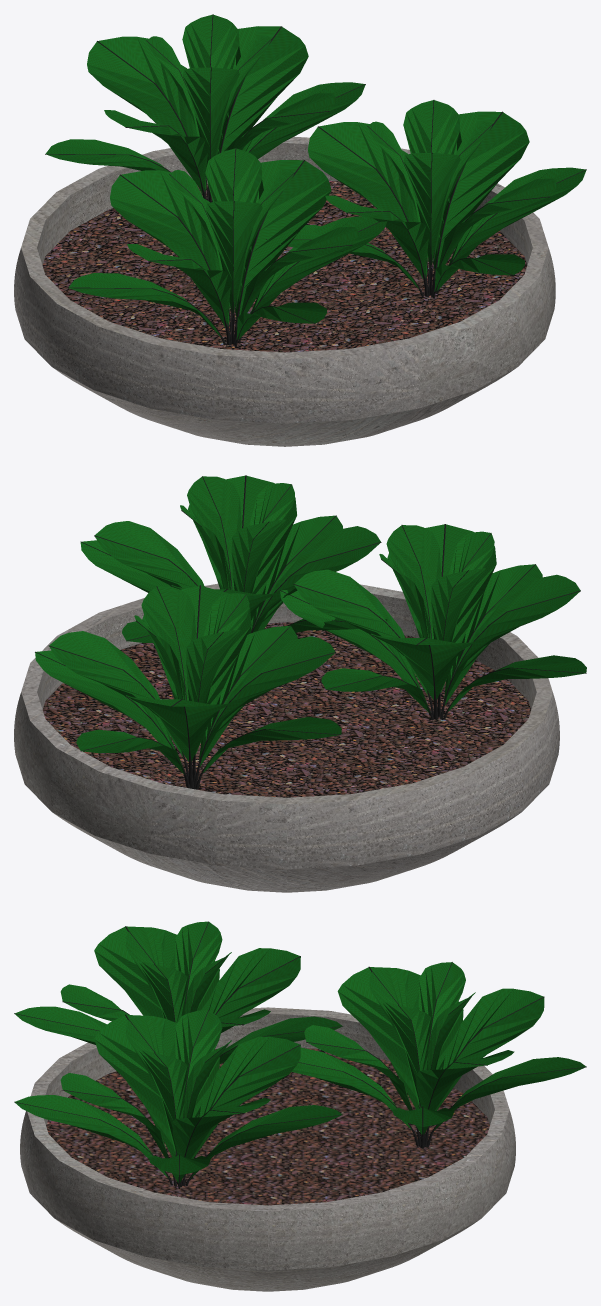
File: Concrete+table+planter.obj
3 views of the same model, one above another, from view 1: azimuth 30°, elevation 25°; view 2: azimuth 150°, elevation 25°; view 3: azimuth 270°, elevation 25° (orthographic). The views are drawn at different scales.
Parts seen in each view (by area): view 1: Mesh25 Group_10_1 Group_11_1 Model, Mesh41 Group29 Group27 Group18 planta_interior_sola2 Group_11_1 , Mesh16 Group12 Group10 Group1 planta_interior_sola1 Group_11_1 M, Mesh65 Group46 Group44 Group35 planta_interior_sola3 Group_11_1 , Mesh71 Group50 Group48 Group35 planta_interior_sola3 Group_11_1 , Mesh47 Group33 Group31 Group18 planta_interior_sola2 Group_11_1 , Mesh22 Group16 Group14 Group1 planta_interior_sola1 Group_11_1 M, Mesh37 Group26 Group23 Group18 planta_interior_sola2 Group_11_1 , Mesh61 Group43 Group40 Group35 planta_interior_sola3 Group_11_1 , Mesh69 Group49 Group48 Group35 planta_interior_sola3 Group_11_1 , Mesh12 Group9 Group6 Group1 planta_interior_sola1 Group_11_1 Mod, Mesh45 Group32 Group31 Group18 planta_interior_sola2 Group_11_1  (+21 smaller); view 2: Mesh25 Group_10_1 Group_11_1 Model, Mesh22 Group16 Group14 Group1 planta_interior_sola1 Group_11_1 M, Mesh47 Group33 Group31 Group18 planta_interior_sola2 Group_11_1 , Mesh71 Group50 Group48 Group35 planta_interior_sola3 Group_11_1 , Mesh29 Group21 Group19 Group18 planta_interior_sola2 Group_11_1 , Mesh4 Group4 Group2 Group1 planta_interior_sola1 Group_11_1 Mode, Mesh53 Group38 Group36 Group35 planta_interior_sola3 Group_11_1 , Mesh24 Group17 Group14 Group1 planta_interior_sola1 Group_11_1 M, Mesh49 Group34 Group31 Group18 planta_interior_sola2 Group_11_1 , Mesh73 Group51 Group48 Group35 planta_interior_sola3 Group_11_1 , Mesh20 Group15 Group14 Group1 planta_interior_sola1 Group_11_1 M, Mesh33 Group24 Group23 Group18 planta_interior_sola2 Group_11_1  (+23 smaller); view 3: Mesh25 Group_10_1 Group_11_1 Model, Mesh16 Group12 Group10 Group1 planta_interior_sola1 Group_11_1 M, Mesh65 Group46 Group44 Group35 planta_interior_sola3 Group_11_1 , Mesh41 Group29 Group27 Group18 planta_interior_sola2 Group_11_1 , Mesh53 Group38 Group36 Group35 planta_interior_sola3 Group_11_1 , Mesh4 Group4 Group2 Group1 planta_interior_sola1 Group_11_1 Mode, Mesh29 Group21 Group19 Group18 planta_interior_sola2 Group_11_1 , Mesh57 Group41 Group40 Group35 planta_interior_sola3 Group_11_1 , Mesh63 Group45 Group44 Group35 planta_interior_sola3 Group_11_1 , Mesh14 Group11 Group10 Group1 planta_interior_sola1 Group_11_1 M, Mesh8 Group7 Group6 Group1 planta_interior_sola1 Group_11_1 Mode, Mesh55 Group39 Group36 Group35 planta_interior_sola3 Group_11_1  (+20 smaller).
Boxes of the visible parts, x1,y1,x2,y2 form: Mesh25 Group_10_1 Group_11_1 Model: [14, 136, 555, 446]; Mesh41 Group29 Group27 Group18 planta_interior_sola2 Group_11_1 : [110, 170, 220, 270]; Mesh16 Group12 Group10 Group1 planta_interior_sola1 Group_11_1 M: [87, 36, 197, 136]; Mesh65 Group46 Group44 Group35 planta_interior_sola3 Group_11_1 : [308, 122, 418, 222]; Mesh71 Group50 Group48 Group35 planta_interior_sola3 Group_11_1 : [433, 111, 529, 269]; Mesh47 Group33 Group31 Group18 planta_interior_sola2 Group_11_1 : [235, 160, 331, 318]; Mesh22 Group16 Group14 Group1 planta_interior_sola1 Group_11_1 M: [217, 26, 308, 154]; Mesh37 Group26 Group23 Group18 planta_interior_sola2 Group_11_1 : [205, 201, 262, 313]; Mesh61 Group43 Group40 Group35 planta_interior_sola3 Group_11_1 : [403, 153, 460, 264]; Mesh69 Group49 Group48 Group35 planta_interior_sola3 Group_11_1 : [448, 167, 586, 265]; Mesh12 Group9 Group6 Group1 planta_interior_sola1 Group_11_1 Mod: [182, 67, 239, 166]; Mesh45 Group32 Group31 Group18 planta_interior_sola2 Group_11_1 : [250, 216, 387, 313]; Mesh25 Group_10_1 Group_11_1 Model: [14, 583, 559, 892]; Mesh22 Group16 Group14 Group1 planta_interior_sola1 Group_11_1 M: [49, 631, 183, 757]; Mesh47 Group33 Group31 Group18 planta_interior_sola2 Group_11_1 : [294, 569, 428, 696]; Mesh71 Group50 Group48 Group35 planta_interior_sola3 Group_11_1 : [95, 521, 204, 589]; Mesh29 Group21 Group19 Group18 planta_interior_sola2 Group_11_1 : [446, 574, 580, 697]; Mesh4 Group4 Group2 Group1 planta_interior_sola1 Group_11_1 Mode: [201, 636, 335, 758]; Mesh53 Group38 Group36 Group35 planta_interior_sola3 Group_11_1 : [252, 526, 380, 632]; Mesh24 Group17 Group14 Group1 planta_interior_sola1 Group_11_1 M: [141, 586, 195, 700]; Mesh49 Group34 Group31 Group18 planta_interior_sola2 Group_11_1 : [386, 525, 440, 638]; Mesh73 Group51 Group48 Group35 planta_interior_sola3 Group_11_1 : [187, 476, 241, 590]; Mesh20 Group15 Group14 Group1 planta_interior_sola1 Group_11_1 M: [35, 650, 175, 749]; Mesh33 Group24 Group23 Group18 planta_interior_sola2 Group_11_1 : [444, 564, 542, 704]; Mesh25 Group_10_1 Group_11_1 Model: [20, 1007, 515, 1291]; Mesh16 Group12 Group10 Group1 planta_interior_sola1 Group_11_1 M: [435, 988, 544, 1110]; Mesh65 Group46 Group44 Group35 planta_interior_sola3 Group_11_1 : [191, 1036, 300, 1158]; Mesh41 Group29 Group27 Group18 planta_interior_sola2 Group_11_1 : [204, 948, 300, 1020]; Mesh53 Group38 Group36 Group35 planta_interior_sola3 Group_11_1 : [94, 1015, 177, 1156]; Mesh4 Group4 Group2 Group1 planta_interior_sola1 Group_11_1 Mode: [337, 967, 420, 1108]; Mesh29 Group21 Group19 Group18 planta_interior_sola2 Group_11_1 : [94, 926, 176, 1018]; Mesh57 Group41 Group40 Group35 planta_interior_sola3 Group_11_1 : [15, 1095, 168, 1178]; Mesh63 Group45 Group44 Group35 planta_interior_sola3 Group_11_1 : [190, 1105, 342, 1178]; Mesh14 Group11 Group10 Group1 planta_interior_sola1 Group_11_1 M: [434, 1057, 585, 1130]; Mesh8 Group7 Group6 Group1 planta_interior_sola1 Group_11_1 Mode: [291, 1047, 411, 1129]; Mesh55 Group39 Group36 Group35 planta_interior_sola3 Group_11_1 : [175, 1010, 222, 1090].
Bounding box in the file's own units: 17.13 × 9.49 × 18.18.
4 materials, 4 textured.
